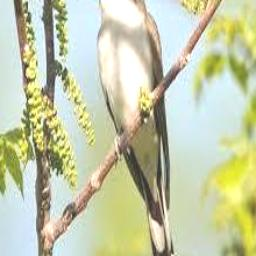Cuckoo: (84, 0, 185, 256)
